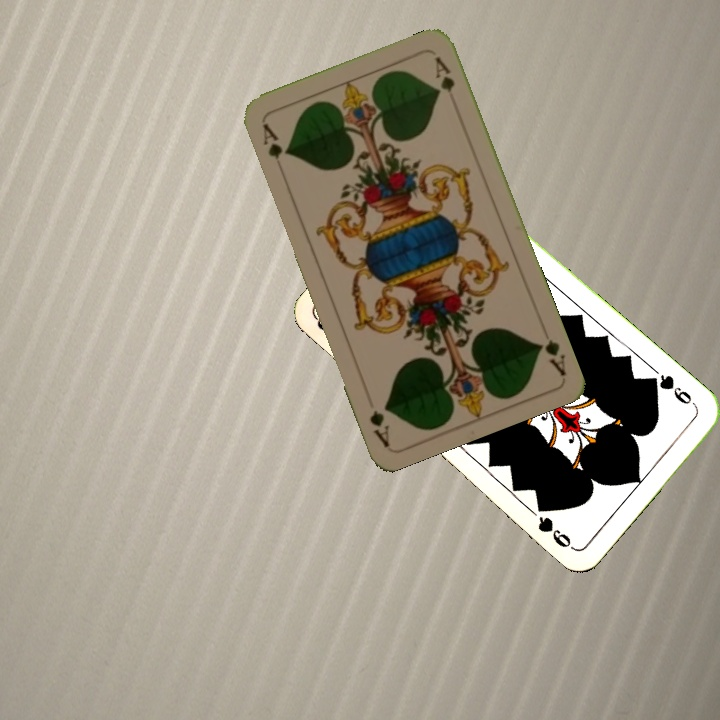G9: (645, 370, 699, 410)
GA: (258, 119, 288, 176), (533, 335, 569, 378)
